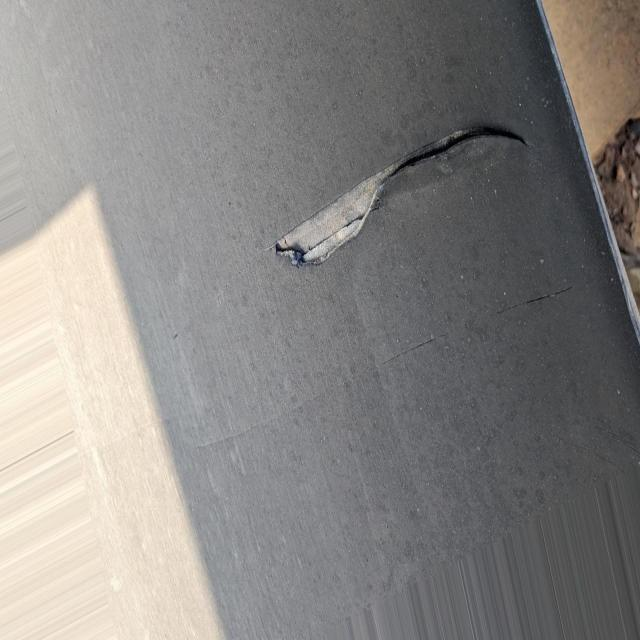Tear: (268, 118, 532, 270)
